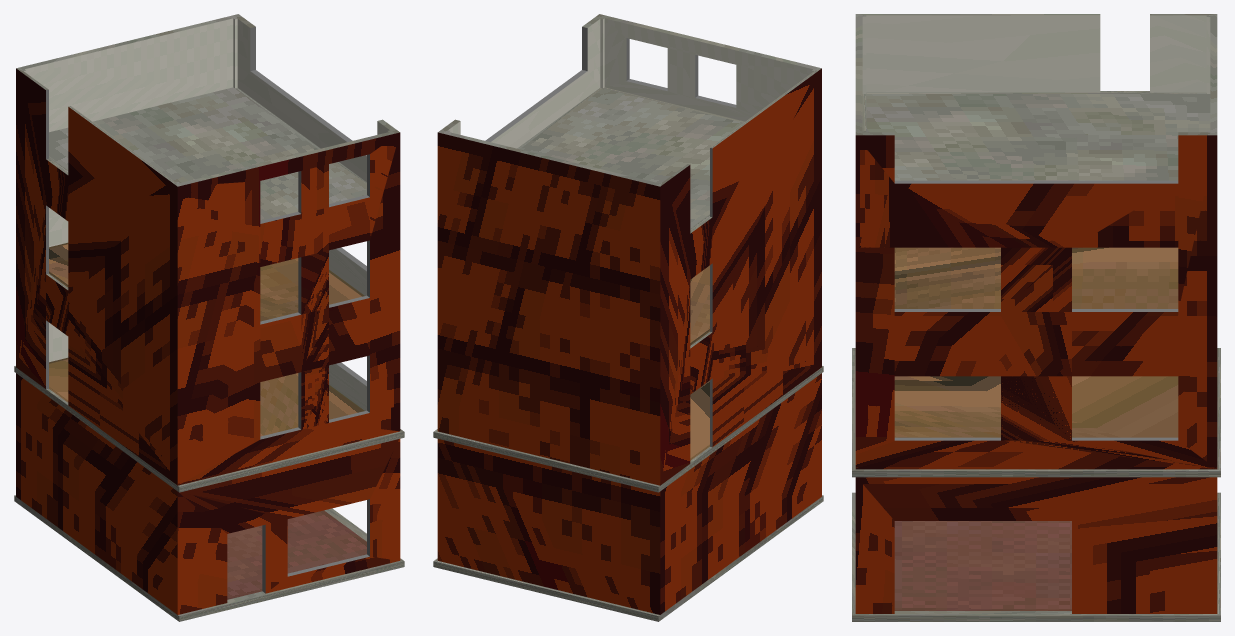
File: TravelAgency.glb
3 views of the same model, side by side, from view 1: azimuth 30°, elevation 25°; view 2: azimuth 150°, elevation 25°; view 3: azimuth 270°, elevation 25° (orthographic). The views are drawn at different scales.
Visible parts, largest first — view 1: TravelAgency; view 2: TravelAgency; view 3: TravelAgency.
Boxes of the visible parts, bbox=[...] form: TravelAgency: bbox=[14, 14, 404, 621]; TravelAgency: bbox=[433, 14, 823, 621]; TravelAgency: bbox=[852, 14, 1220, 621].
Bounding box in the file's own units: 8.2 × 15.1 × 10.4.
6 materials, 5 textured.
